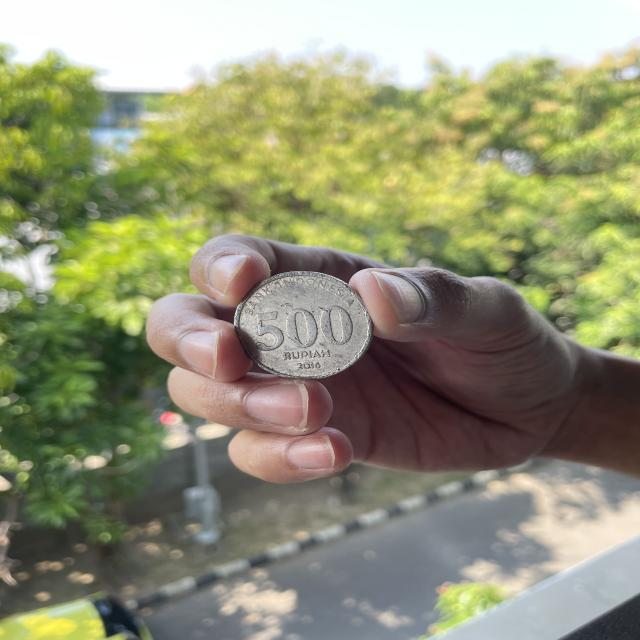500-kuning: (233, 271, 372, 379)
